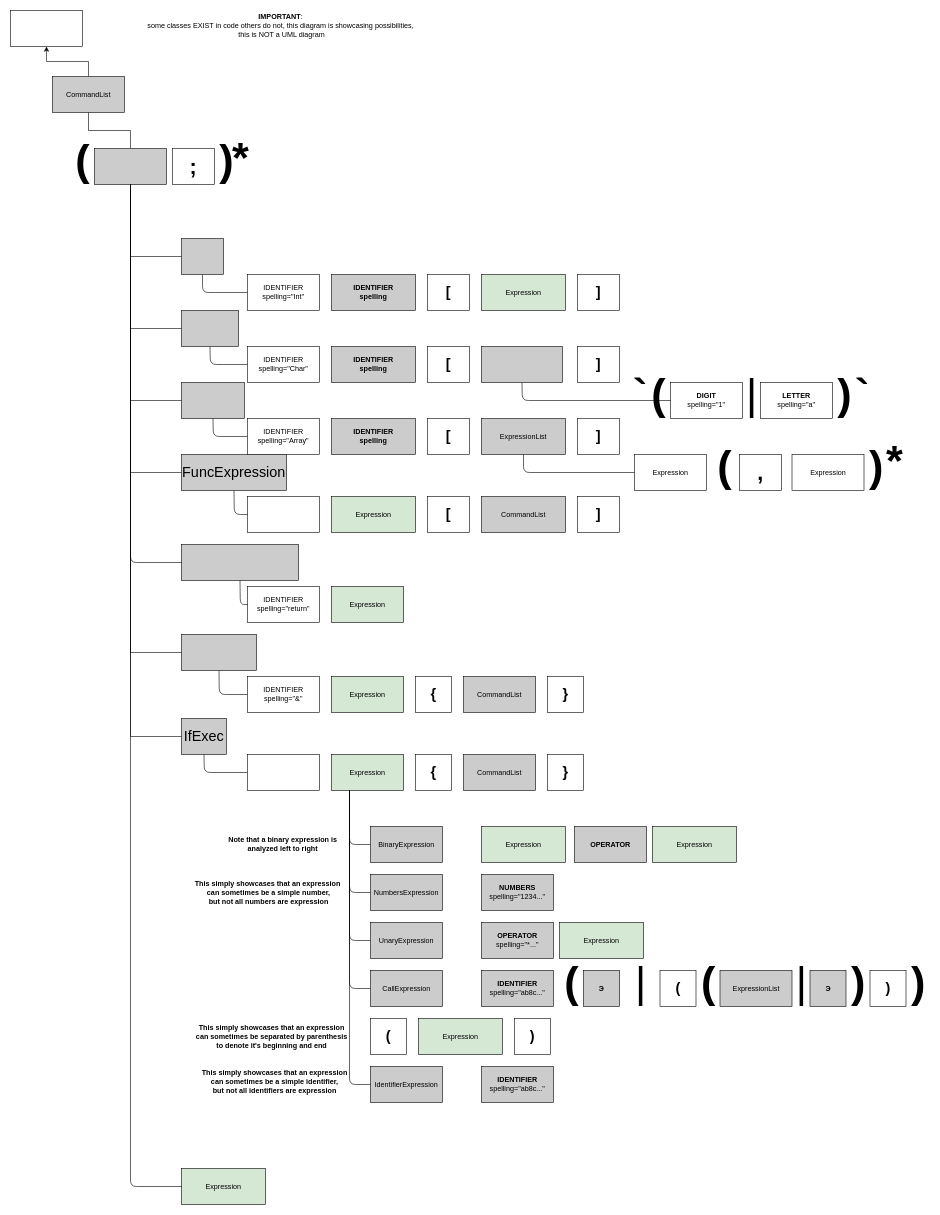
This 940x1215 diagram has some shape labels left out. Each missing label, with the box of its shape:
ArrayInst: (181, 382, 244, 418)
Character: (481, 346, 562, 382)
CharInst: (181, 310, 238, 346)
Command: (94, 148, 166, 184)
IDENTIFIER spelling="Func": (247, 496, 320, 532)
IDENTIFIER spelling="if": (247, 754, 320, 790)
IntInst: (181, 238, 224, 274)
Program: (10, 10, 82, 46)
ReturnExpression: (181, 544, 298, 580)
WhileExec: (181, 634, 256, 670)
